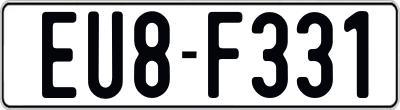1: (343, 10, 368, 103)
3: (296, 9, 336, 99), (252, 9, 293, 96)
8: (132, 11, 170, 103)
E: (42, 10, 76, 102)
F: (205, 9, 244, 96)
U: (85, 11, 123, 102)
